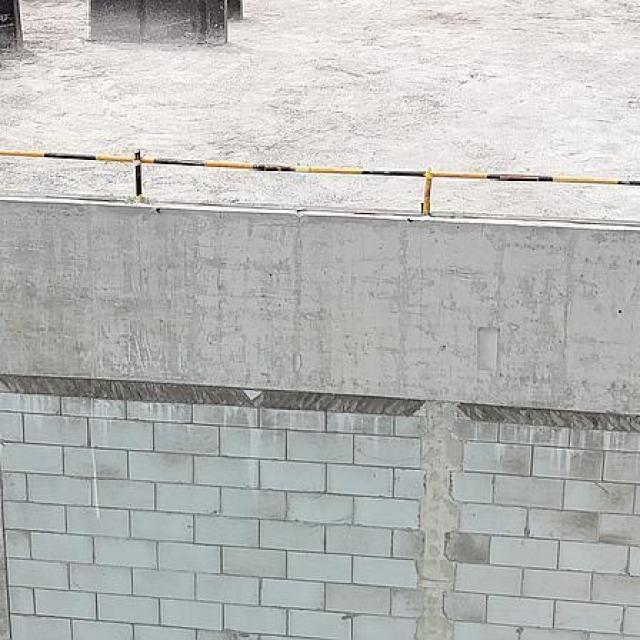Guardrail: (0, 149, 640, 217)
